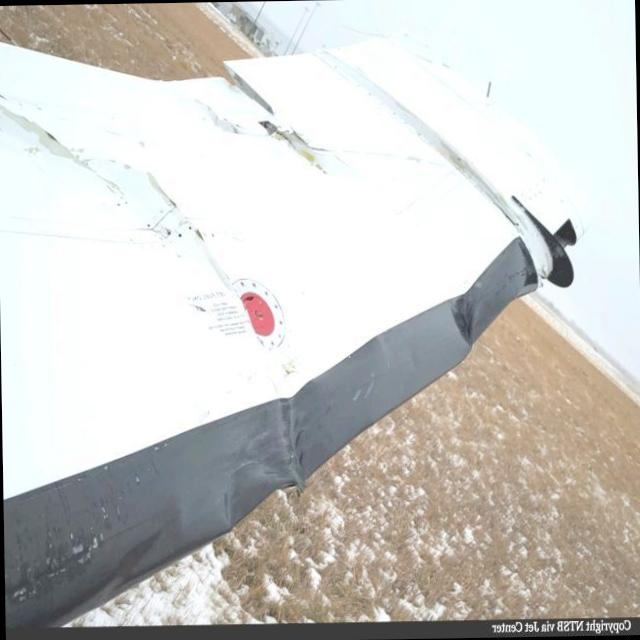crack: (0, 95, 247, 313), (216, 62, 336, 182)
